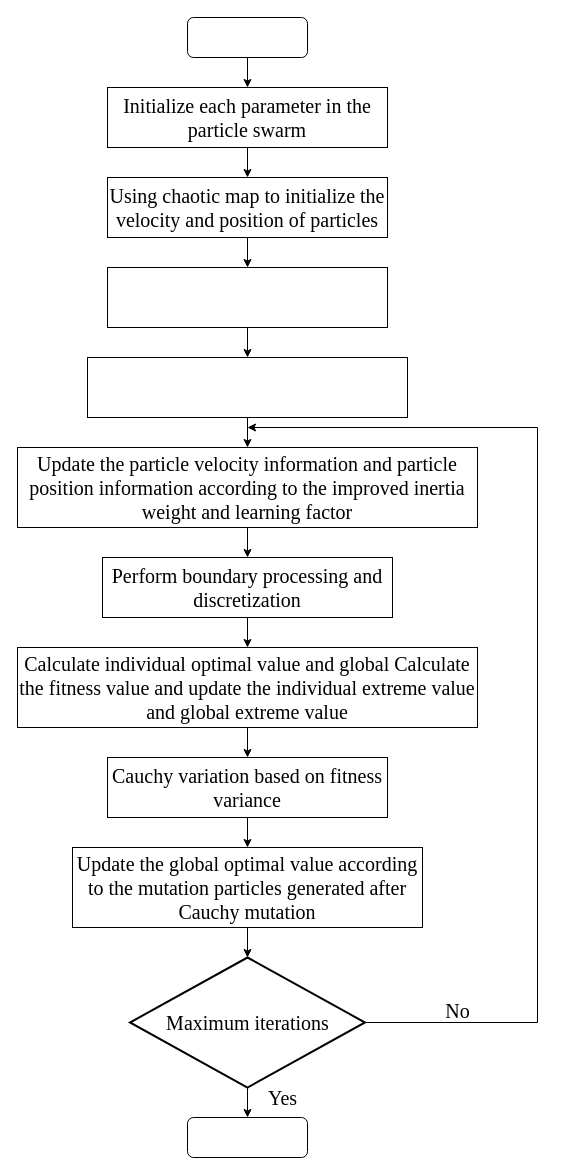
Image size: 563x1175. Some labels were removed from this diagram. The centre of each missing label's shape, as x and y in pixels:
Begin: the point at 247,37
Calculate individual optimal value and global optimal value: the point at 247,387
Discretization and calculation of particle fitness value: the point at 247,297
End: the point at 247,1137
